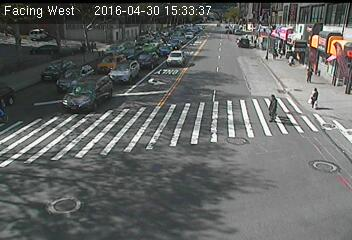neg: (100, 65, 124, 97), (332, 166, 351, 203), (329, 80, 346, 103), (322, 56, 335, 73), (261, 46, 273, 62), (298, 39, 309, 54)
pos: (260, 91, 288, 128), (302, 83, 327, 116), (300, 60, 321, 88)
